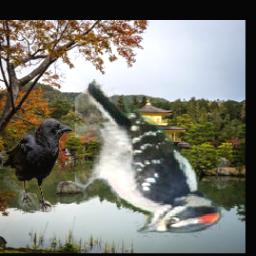Crow: (3, 119, 75, 213)
Woodpecker: (75, 79, 224, 238)
